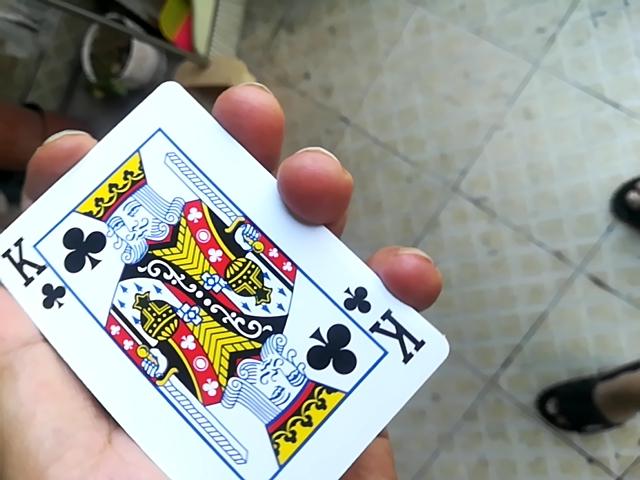mh k: (7, 67, 431, 480)
